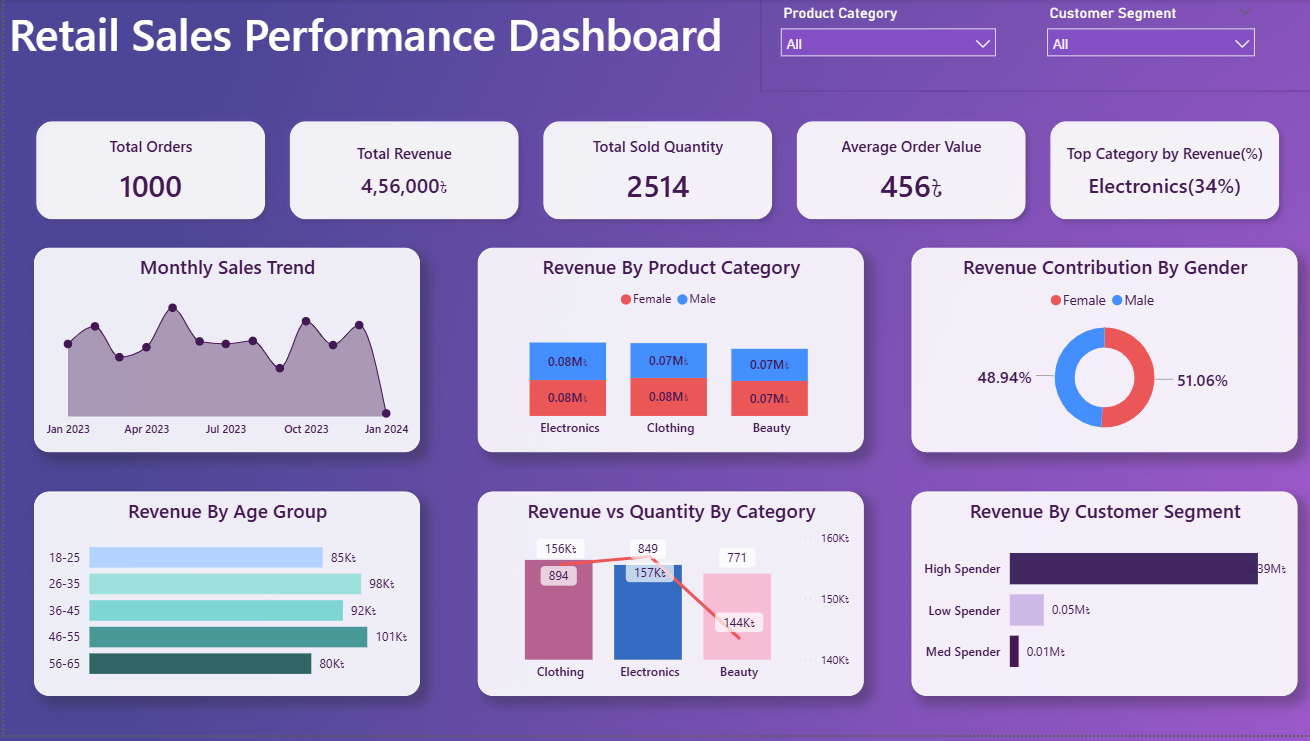

What the dashboard file says about the page in this screenshot:
{"tool":"powerbi","page":{"name":"Page 1","canvas":[1280,720],"ordinal":0},"visuals":[{"type":"shape","box":[739.6,0,540.7,90.6],"z":0},{"type":"textbox","box":[0,0,749.2,90.6],"z":1000},{"type":"cardVisual","fields":{"Data":["Sales Dataset.Total Orders","Sales Dataset.Total Revenue","Sales Dataset.Total Sold Quality","Sales Dataset.Average Order Value","Sales Dataset.Top Category KPI"]},"box":[15.1,102.9,1250,130],"z":2000},{"type":"lineChart","title":"Monthly Sales Trend","fields":{"Y":["Sales Dataset.Total Revenue"],"Category":["Calender Table.Month Year"]},"box":[28.8,242.9,377.4,200],"z":3000},{"type":"columnChart","title":"Revenue By Product Category","fields":{"Category":["Sales Dataset.Product Category"],"Y":["Sales Dataset.Total Revenue"],"Series":["Sales Dataset.Gender"]},"box":[463.8,242.9,377.4,200.3],"z":4000},{"type":"donutChart","title":"Revenue Contribution By Gender","fields":{"Y":["Sales Dataset.Total Revenue"],"Category":["Sales Dataset.Gender"]},"box":[887.8,242.9,377.4,200.3],"z":5000},{"type":"barChart","title":"Revenue By Age Group","fields":{"Y":["Sales Dataset.Total Revenue"],"Category":["Sales Dataset.Age Group"]},"box":[28.8,481.6,377.4,200.3],"z":6000},{"type":"lineClusteredColumnComboChart","title":"Revenue vs Quantity By Category","fields":{"Category":["Sales Dataset.Product Category"],"Y":["Sales Dataset.Total Sold Quality"],"Y2":["Sales Dataset.Total Revenue"]},"box":[463.8,481.6,377.4,200.3],"z":7000},{"type":"clusteredBarChart","title":"Revenue By Customer Segment","fields":{"Y":["Sales Dataset.Total Revenue"],"Category":["Sales Dataset.Customer Segment"]},"box":[887.8,481.6,377.4,200.3],"z":8000},{"type":"slicer","fields":{"Values":["Sales Dataset.Product Category"]},"box":[749.2,0,230.5,90.6],"z":9000},{"type":"slicer","fields":{"Values":["Sales Dataset.Customer Segment"]},"box":[1010,0,223.7,90.6],"z":10000}]}

Visuals, with their boxes in screenshot pixels (x1, y1, x2, y2), scaled from the page's 1280x720 canvas onto the 1310x741 screenshot:
shape: [x1=757, y1=0, x2=1309, y2=93]
textbox: [x1=0, y1=0, x2=767, y2=93]
cardVisual - Sales Dataset.Total Orders x Sales Dataset.Total Revenue: [x1=15, y1=106, x2=1295, y2=240]
"Monthly Sales Trend" lineChart: [x1=29, y1=250, x2=416, y2=456]
"Revenue By Product Category" columnChart: [x1=475, y1=250, x2=861, y2=456]
"Revenue Contribution By Gender" donutChart: [x1=909, y1=250, x2=1295, y2=456]
"Revenue By Age Group" barChart: [x1=29, y1=496, x2=416, y2=702]
"Revenue vs Quantity By Category" lineClusteredColumnComboChart: [x1=475, y1=496, x2=861, y2=702]
"Revenue By Customer Segment" clusteredBarChart: [x1=909, y1=496, x2=1295, y2=702]
slicer - Sales Dataset.Product Category: [x1=767, y1=0, x2=1003, y2=93]
slicer - Sales Dataset.Customer Segment: [x1=1034, y1=0, x2=1263, y2=93]
